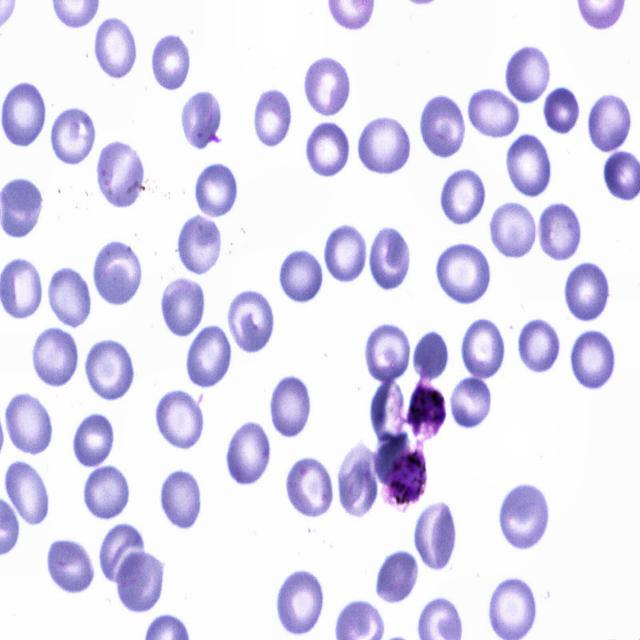difficult: (405, 379, 446, 443)
red blood cell: (432, 240, 493, 306), (91, 237, 143, 308), (274, 568, 326, 637), (356, 110, 412, 174), (96, 137, 146, 208), (114, 547, 165, 616), (418, 93, 470, 159), (501, 482, 549, 552), (84, 337, 135, 402), (225, 418, 272, 488), (438, 164, 490, 227), (1, 80, 48, 149), (505, 132, 553, 199), (4, 392, 54, 456), (176, 210, 224, 276), (98, 521, 146, 587), (4, 460, 52, 526), (284, 456, 335, 518), (336, 442, 376, 521), (562, 259, 612, 322), (226, 290, 275, 354), (503, 42, 552, 106), (43, 536, 96, 595), (362, 322, 412, 384), (303, 55, 352, 118), (412, 500, 456, 570), (153, 389, 205, 448), (32, 326, 80, 389), (466, 87, 522, 141), (186, 324, 233, 388), (47, 266, 94, 330), (570, 327, 617, 391), (160, 276, 208, 338), (51, 105, 98, 168), (178, 88, 225, 151), (370, 223, 412, 293), (323, 223, 368, 287), (488, 202, 536, 262), (462, 319, 508, 381), (536, 202, 584, 261), (589, 90, 633, 154), (304, 119, 352, 176), (271, 373, 312, 439), (518, 315, 563, 374), (279, 247, 325, 304), (370, 376, 406, 448), (85, 464, 132, 519), (95, 19, 136, 81), (149, 34, 194, 90), (72, 410, 116, 467), (196, 163, 240, 220), (162, 468, 202, 529), (375, 548, 418, 603), (451, 378, 492, 432), (255, 87, 290, 148), (412, 326, 449, 382), (544, 87, 582, 135)
trophozoite: (381, 446, 428, 512)
